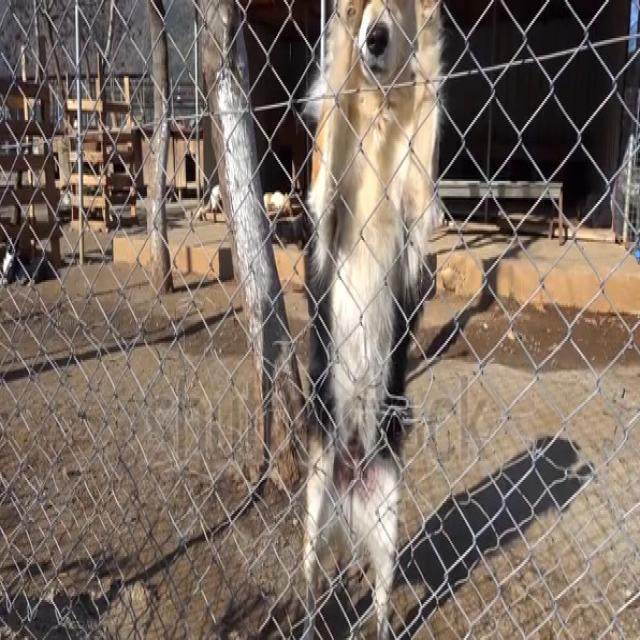injured-animals: (287, 0, 449, 636)
